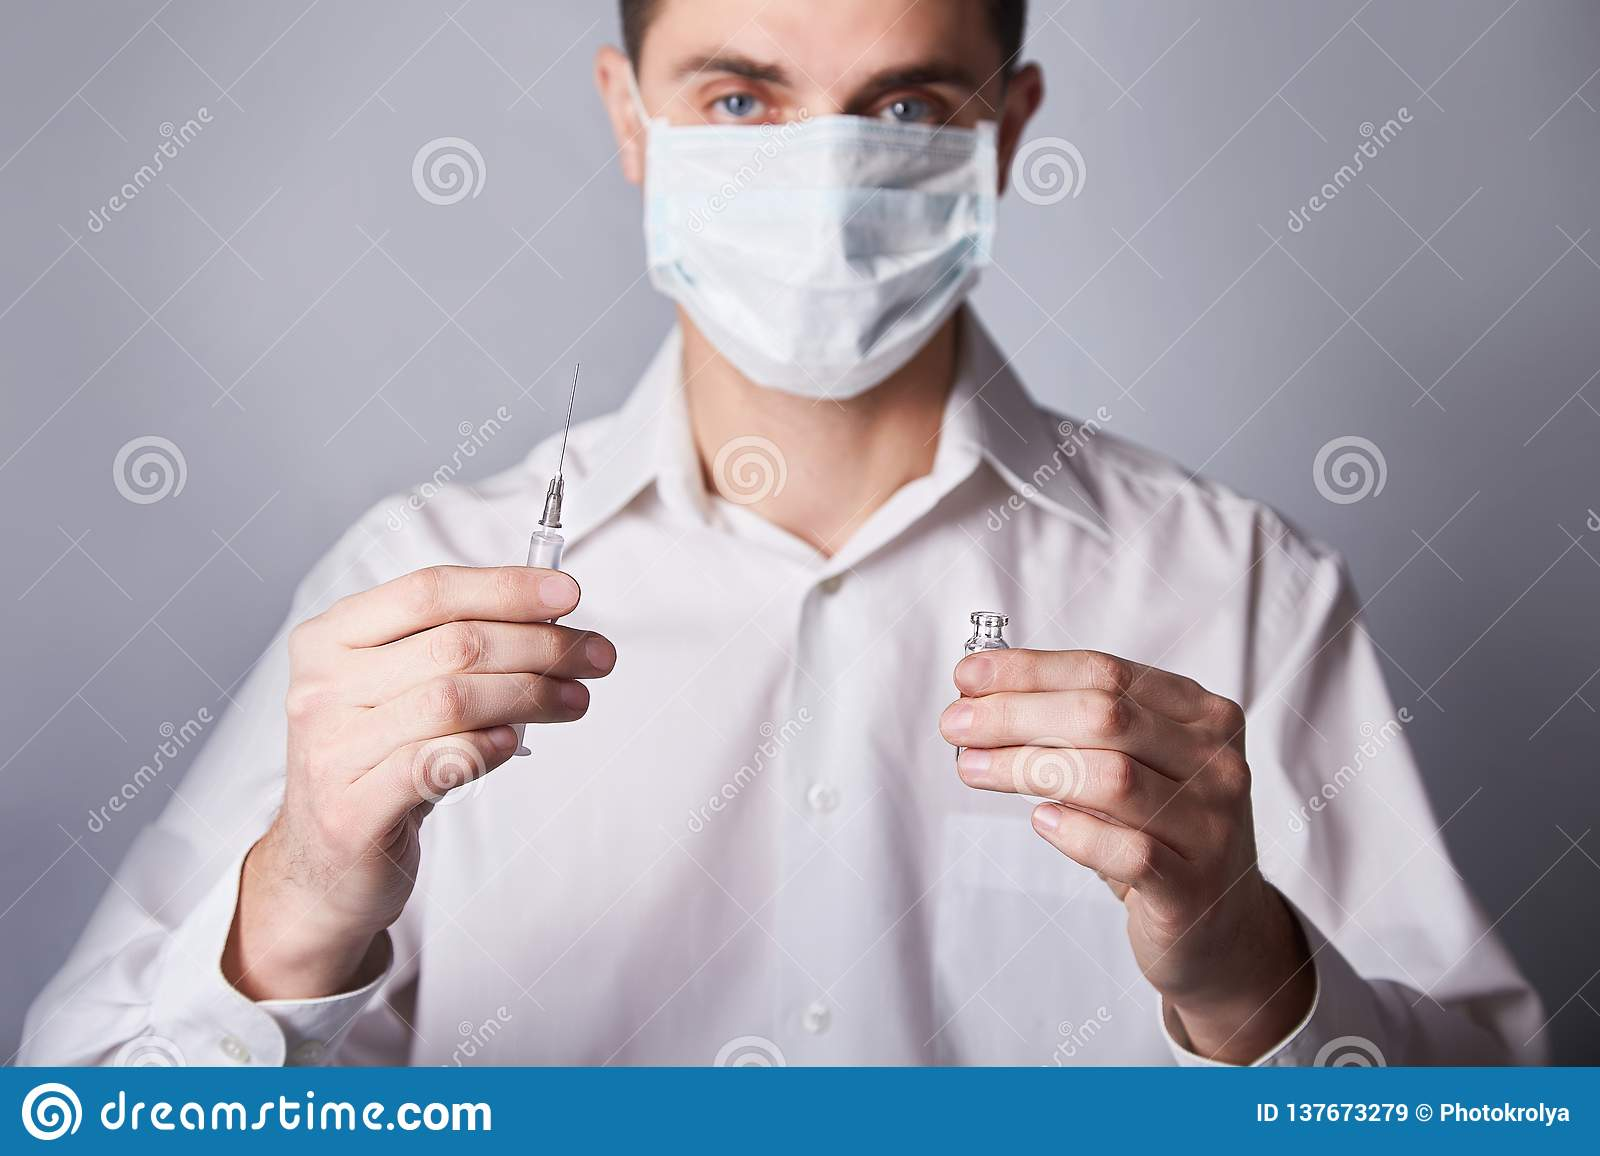mask: (641, 111, 998, 400)
